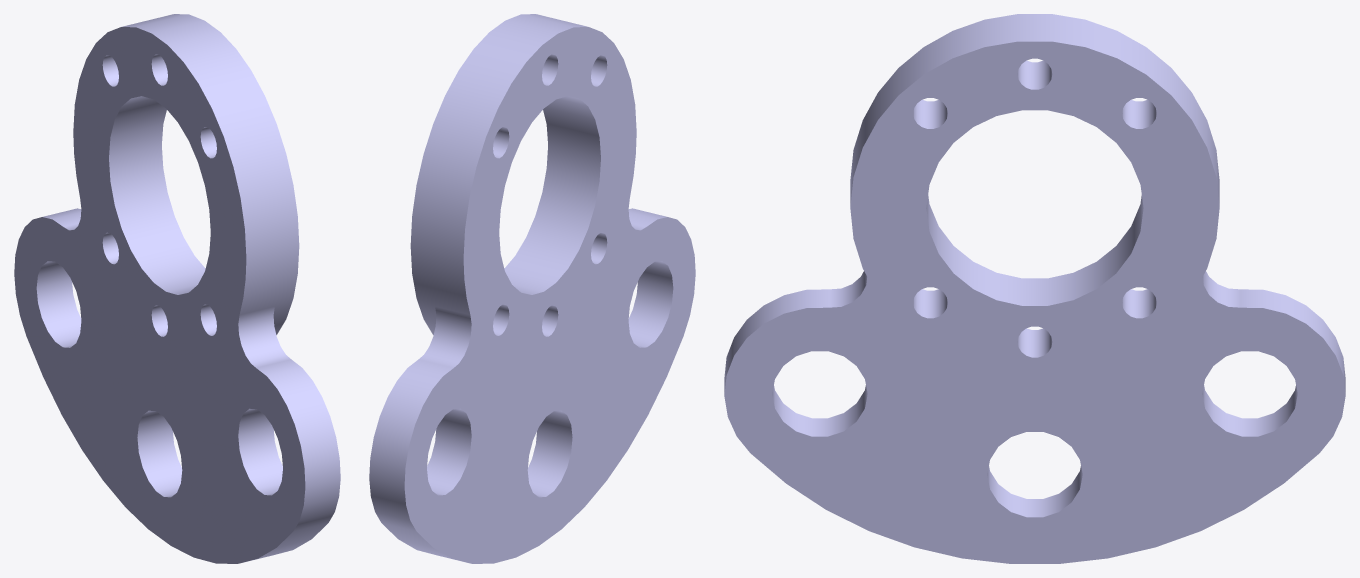
File: 16 Housing 06.fbx
3 renders of one model, left to right at view 1: azimuth 30°, elevation 25°; view 2: azimuth 150°, elevation 25°; view 3: azimuth 270°, elevation 25°, orthographic. The views are drawn at different scales.
Visible parts, largest first — view 1: PartBody; view 2: PartBody; view 3: PartBody.
Boxes of the visible parts, left/top/right/bottom form: PartBody: left=14, top=14, right=340, bottom=563; PartBody: left=369, top=14, right=695, bottom=563; PartBody: left=724, top=14, right=1345, bottom=563.
Bounding box in the file's own units: 0.5906 × 5.32 × 5.63.
